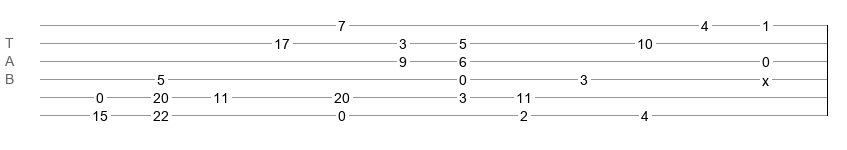0: (96, 90, 104, 100), (338, 108, 346, 118), (459, 72, 467, 82), (762, 54, 770, 64)
1: (762, 18, 770, 28)
10: (637, 36, 653, 46)
11: (213, 90, 229, 100), (516, 90, 532, 100)
15: (92, 108, 108, 118)
17: (274, 36, 290, 46)
2: (520, 108, 528, 118)
20: (153, 90, 169, 100), (334, 90, 350, 100)
22: (153, 108, 169, 118)
3: (399, 36, 407, 46), (459, 90, 467, 100), (580, 72, 588, 82)
4: (641, 108, 649, 118), (701, 18, 709, 28)
5: (157, 72, 165, 82), (459, 36, 467, 46)
6: (459, 54, 467, 64)
7: (338, 18, 346, 28)
9: (399, 54, 407, 64)
x: (762, 73, 769, 81)
